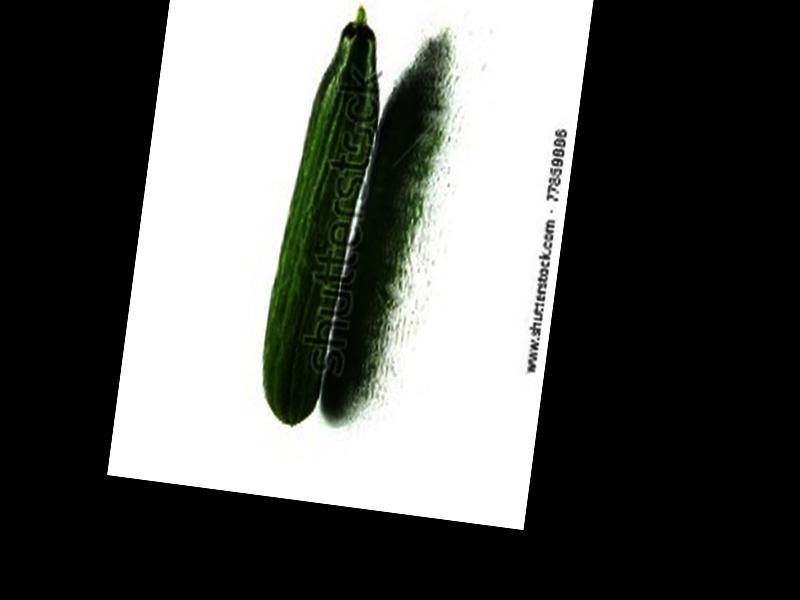Cucumber: (253, 1, 392, 428)
